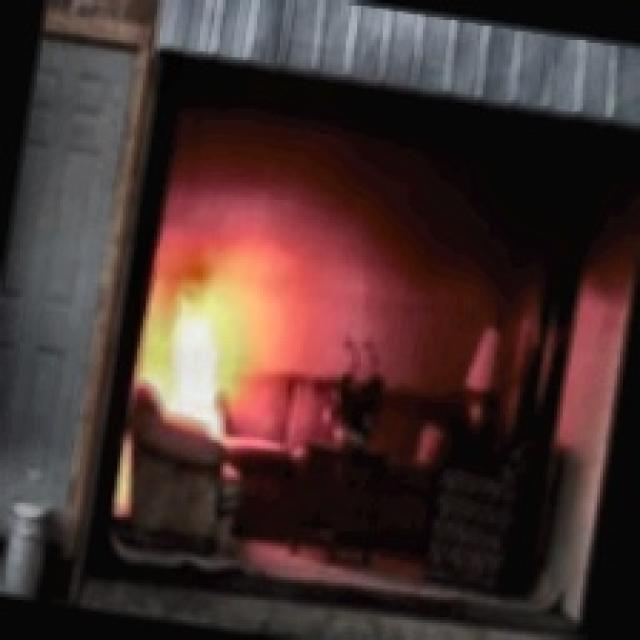fire: (128, 237, 286, 429)
